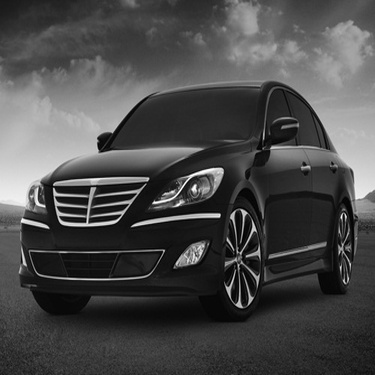car: (13, 71, 364, 326)
